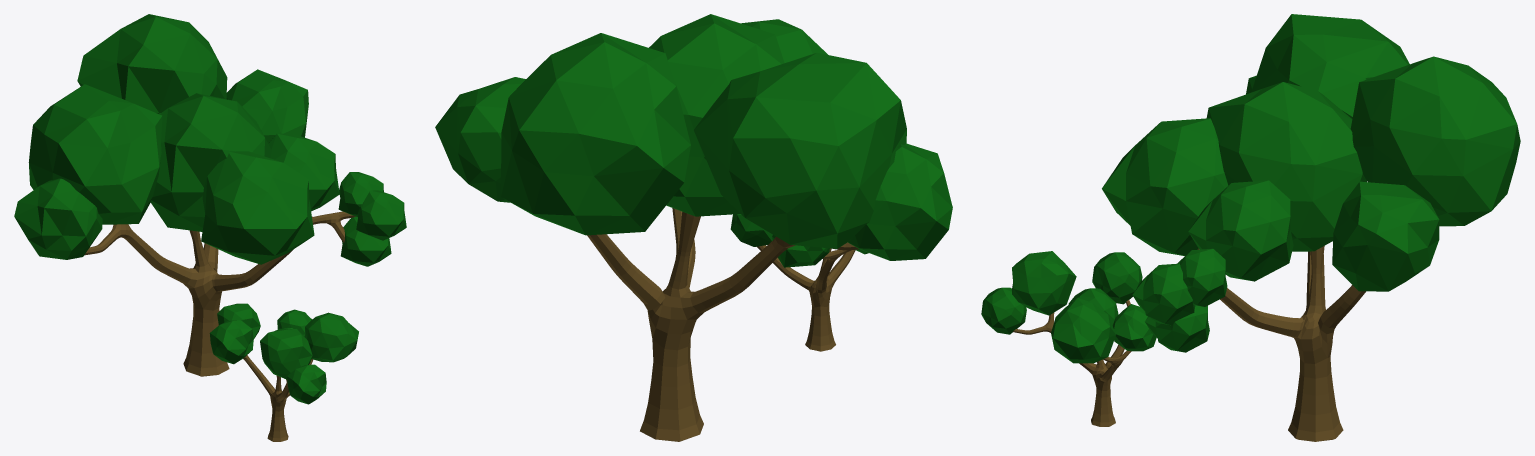
The model's file is trees.glb.
3 views of the same model, side by side, from view 1: azimuth 30°, elevation 25°; view 2: azimuth 150°, elevation 25°; view 3: azimuth 270°, elevation 25° (orthographic). The views are drawn at different scales.
Visible parts, largest first — view 1: Icosphere, Icosphere.002, Icosphere.004, Icosphere.001, Plane.003, Icosphere.003, Icosphere.006, Icosphere.005, Icosphere.008, Icosphere.016, Icosphere.007, Icosphere.010 (+6 smaller); view 2: Icosphere.004, Icosphere, Plane.003, Icosphere.001, Icosphere.003, Icosphere.006, Plane.002, Icosphere.002, Icosphere.012, Icosphere.011; view 3: Icosphere.004, Icosphere.001, Icosphere.002, Icosphere.006, Icosphere, Plane.003, Icosphere.005, Icosphere.008, Icosphere.007, Icosphere.016, Icosphere.014, Plane.002 (+5 smaller).
Boxes of the visible parts, x1,y1,x2,y2 form: Icosphere: (28,84,162,224); Icosphere.002: (201,151,314,264); Icosphere.004: (77,14,227,114); Icosphere.001: (150,93,271,231); Plane.003: (84,211,355,376); Icosphere.003: (14,178,102,259); Icosphere.006: (226,69,308,143); Icosphere.005: (268,133,339,211); Icosphere.008: (305,312,358,362); Icosphere.016: (356,190,406,240); Icosphere.007: (260,328,312,379); Icosphere.010: (209,320,253,364); Icosphere.004: (501,33,690,235); Icosphere: (694,52,906,248); Plane.003: (587,208,859,441); Icosphere.001: (649,14,784,216); Icosphere.003: (848,143,952,260); Icosphere.006: (435,77,525,202); Plane.002: (757,245,855,351); Icosphere.002: (741,19,827,62); Icosphere.012: (772,235,829,267); Icosphere.011: (730,214,772,246); Icosphere.004: (1350,56,1520,226); Icosphere.001: (1206,82,1366,251); Icosphere.002: (1102,118,1228,255); Icosphere.006: (1332,181,1439,291); Icosphere: (1251,14,1409,118); Plane.003: (1197,246,1365,441); Icosphere.005: (1188,180,1293,281); Icosphere.008: (1051,298,1115,363); Icosphere.007: (1012,251,1076,315); Icosphere.016: (1132,263,1195,325); Icosphere.014: (1177,248,1227,306); Plane.002: (1013,300,1131,426).
Bounding box in the file's own units: 6.85 × 6.36 × 8.26.
